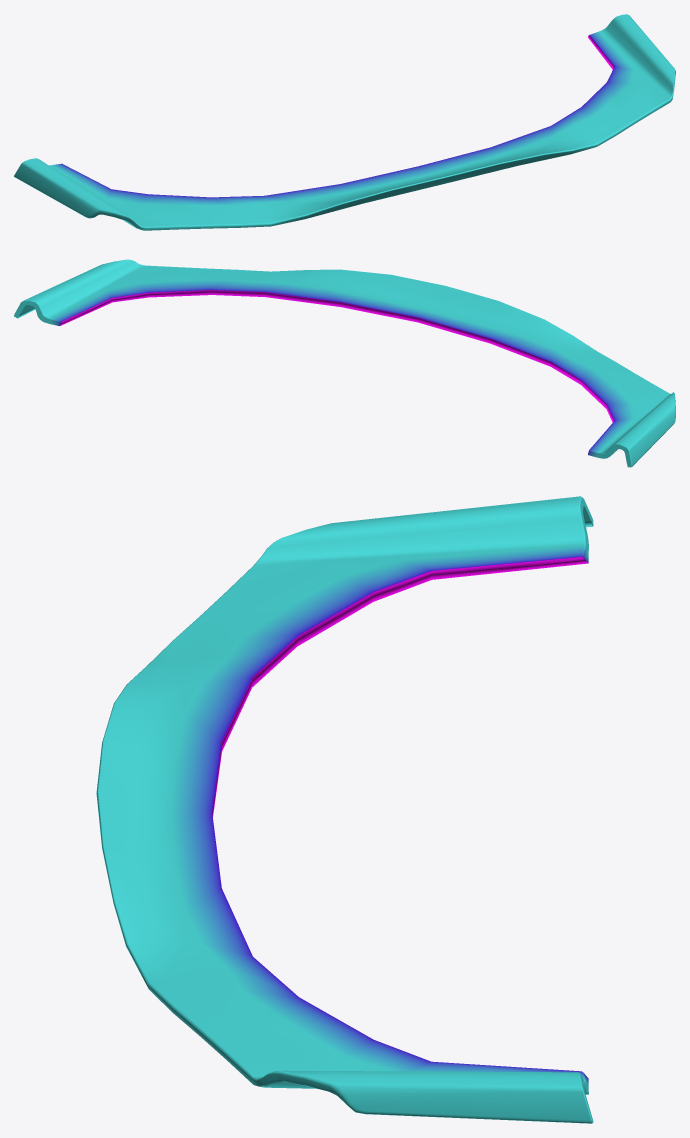
Rendered from Car_Nissan_SkylineGTRVspecR34_1999_Splitter_SetBC.fbx.
3 views of the same model, one above another, from view 1: azimuth 30°, elevation 25°; view 2: azimuth 150°, elevation 25°; view 3: azimuth 270°, elevation 25° (orthographic). The views are drawn at different scales.
Visible parts, largest first — view 1: Splitter 6; view 2: Splitter 6; view 3: Splitter 6.
Boxes of the visible parts, x1,y1,x2,y2 form: Splitter 6: [14, 14, 675, 230]; Splitter 6: [14, 259, 675, 467]; Splitter 6: [96, 496, 593, 1123].
Bounding box in the file's own units: 1.95 × 0.0659 × 0.6798.
